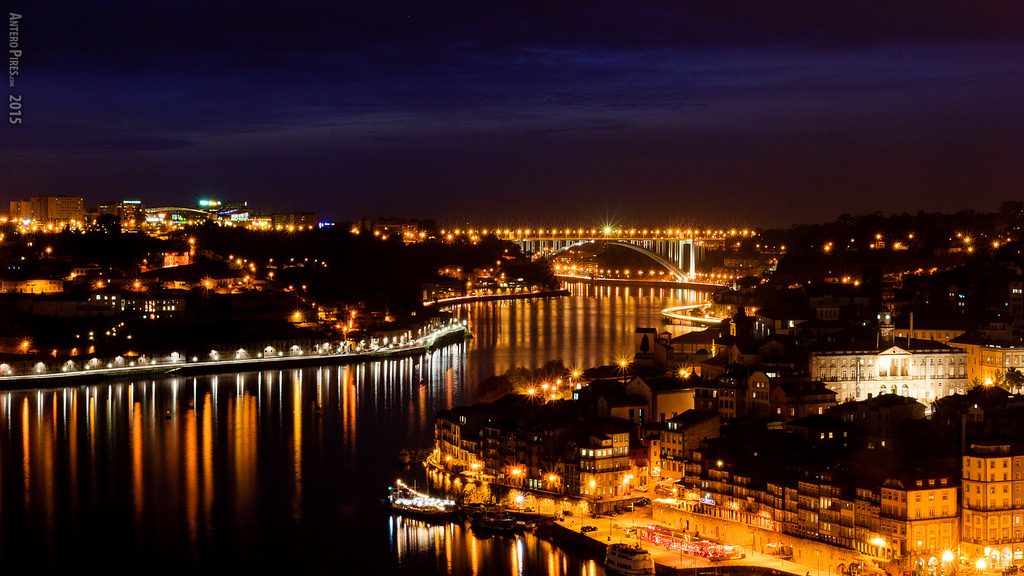arrabida: (487, 230, 709, 282)
